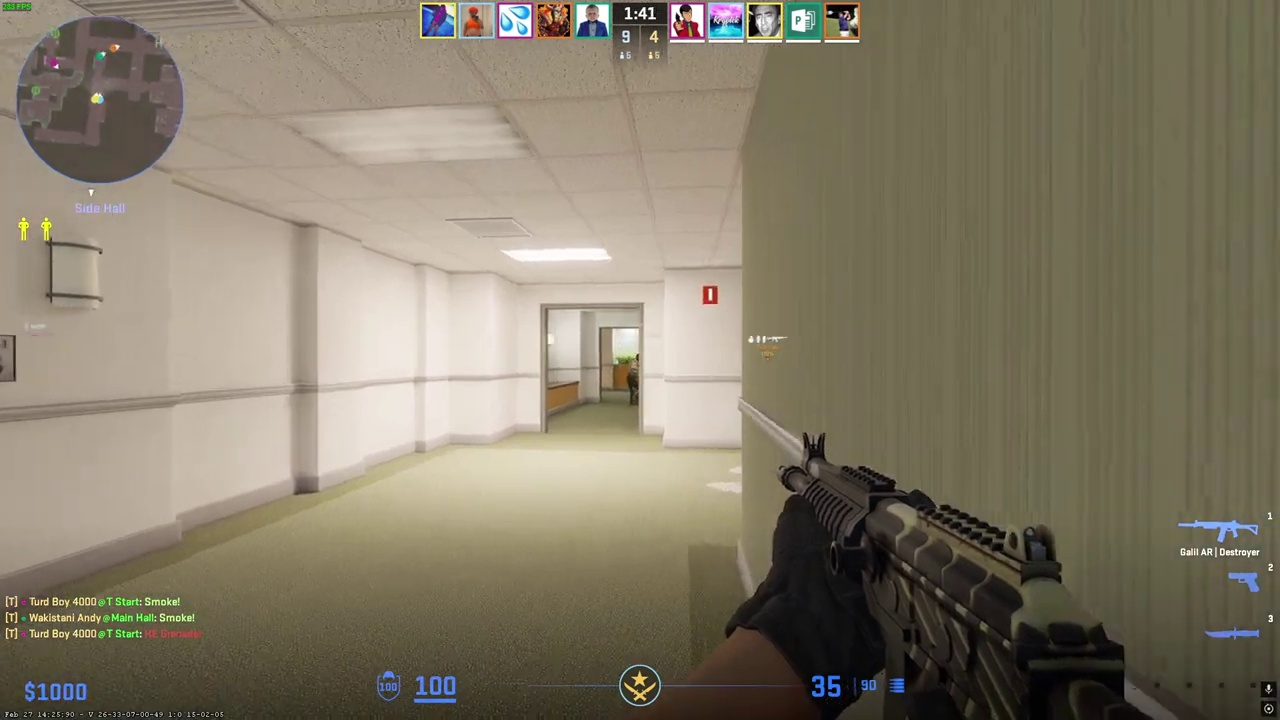Terrorist: (625, 353, 640, 407)
